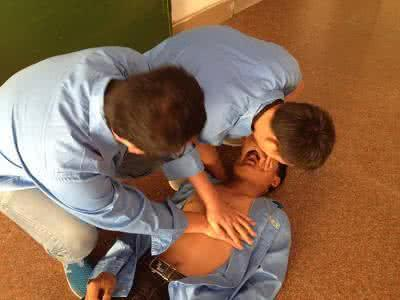Fall-Detected: (57, 131, 299, 296)
